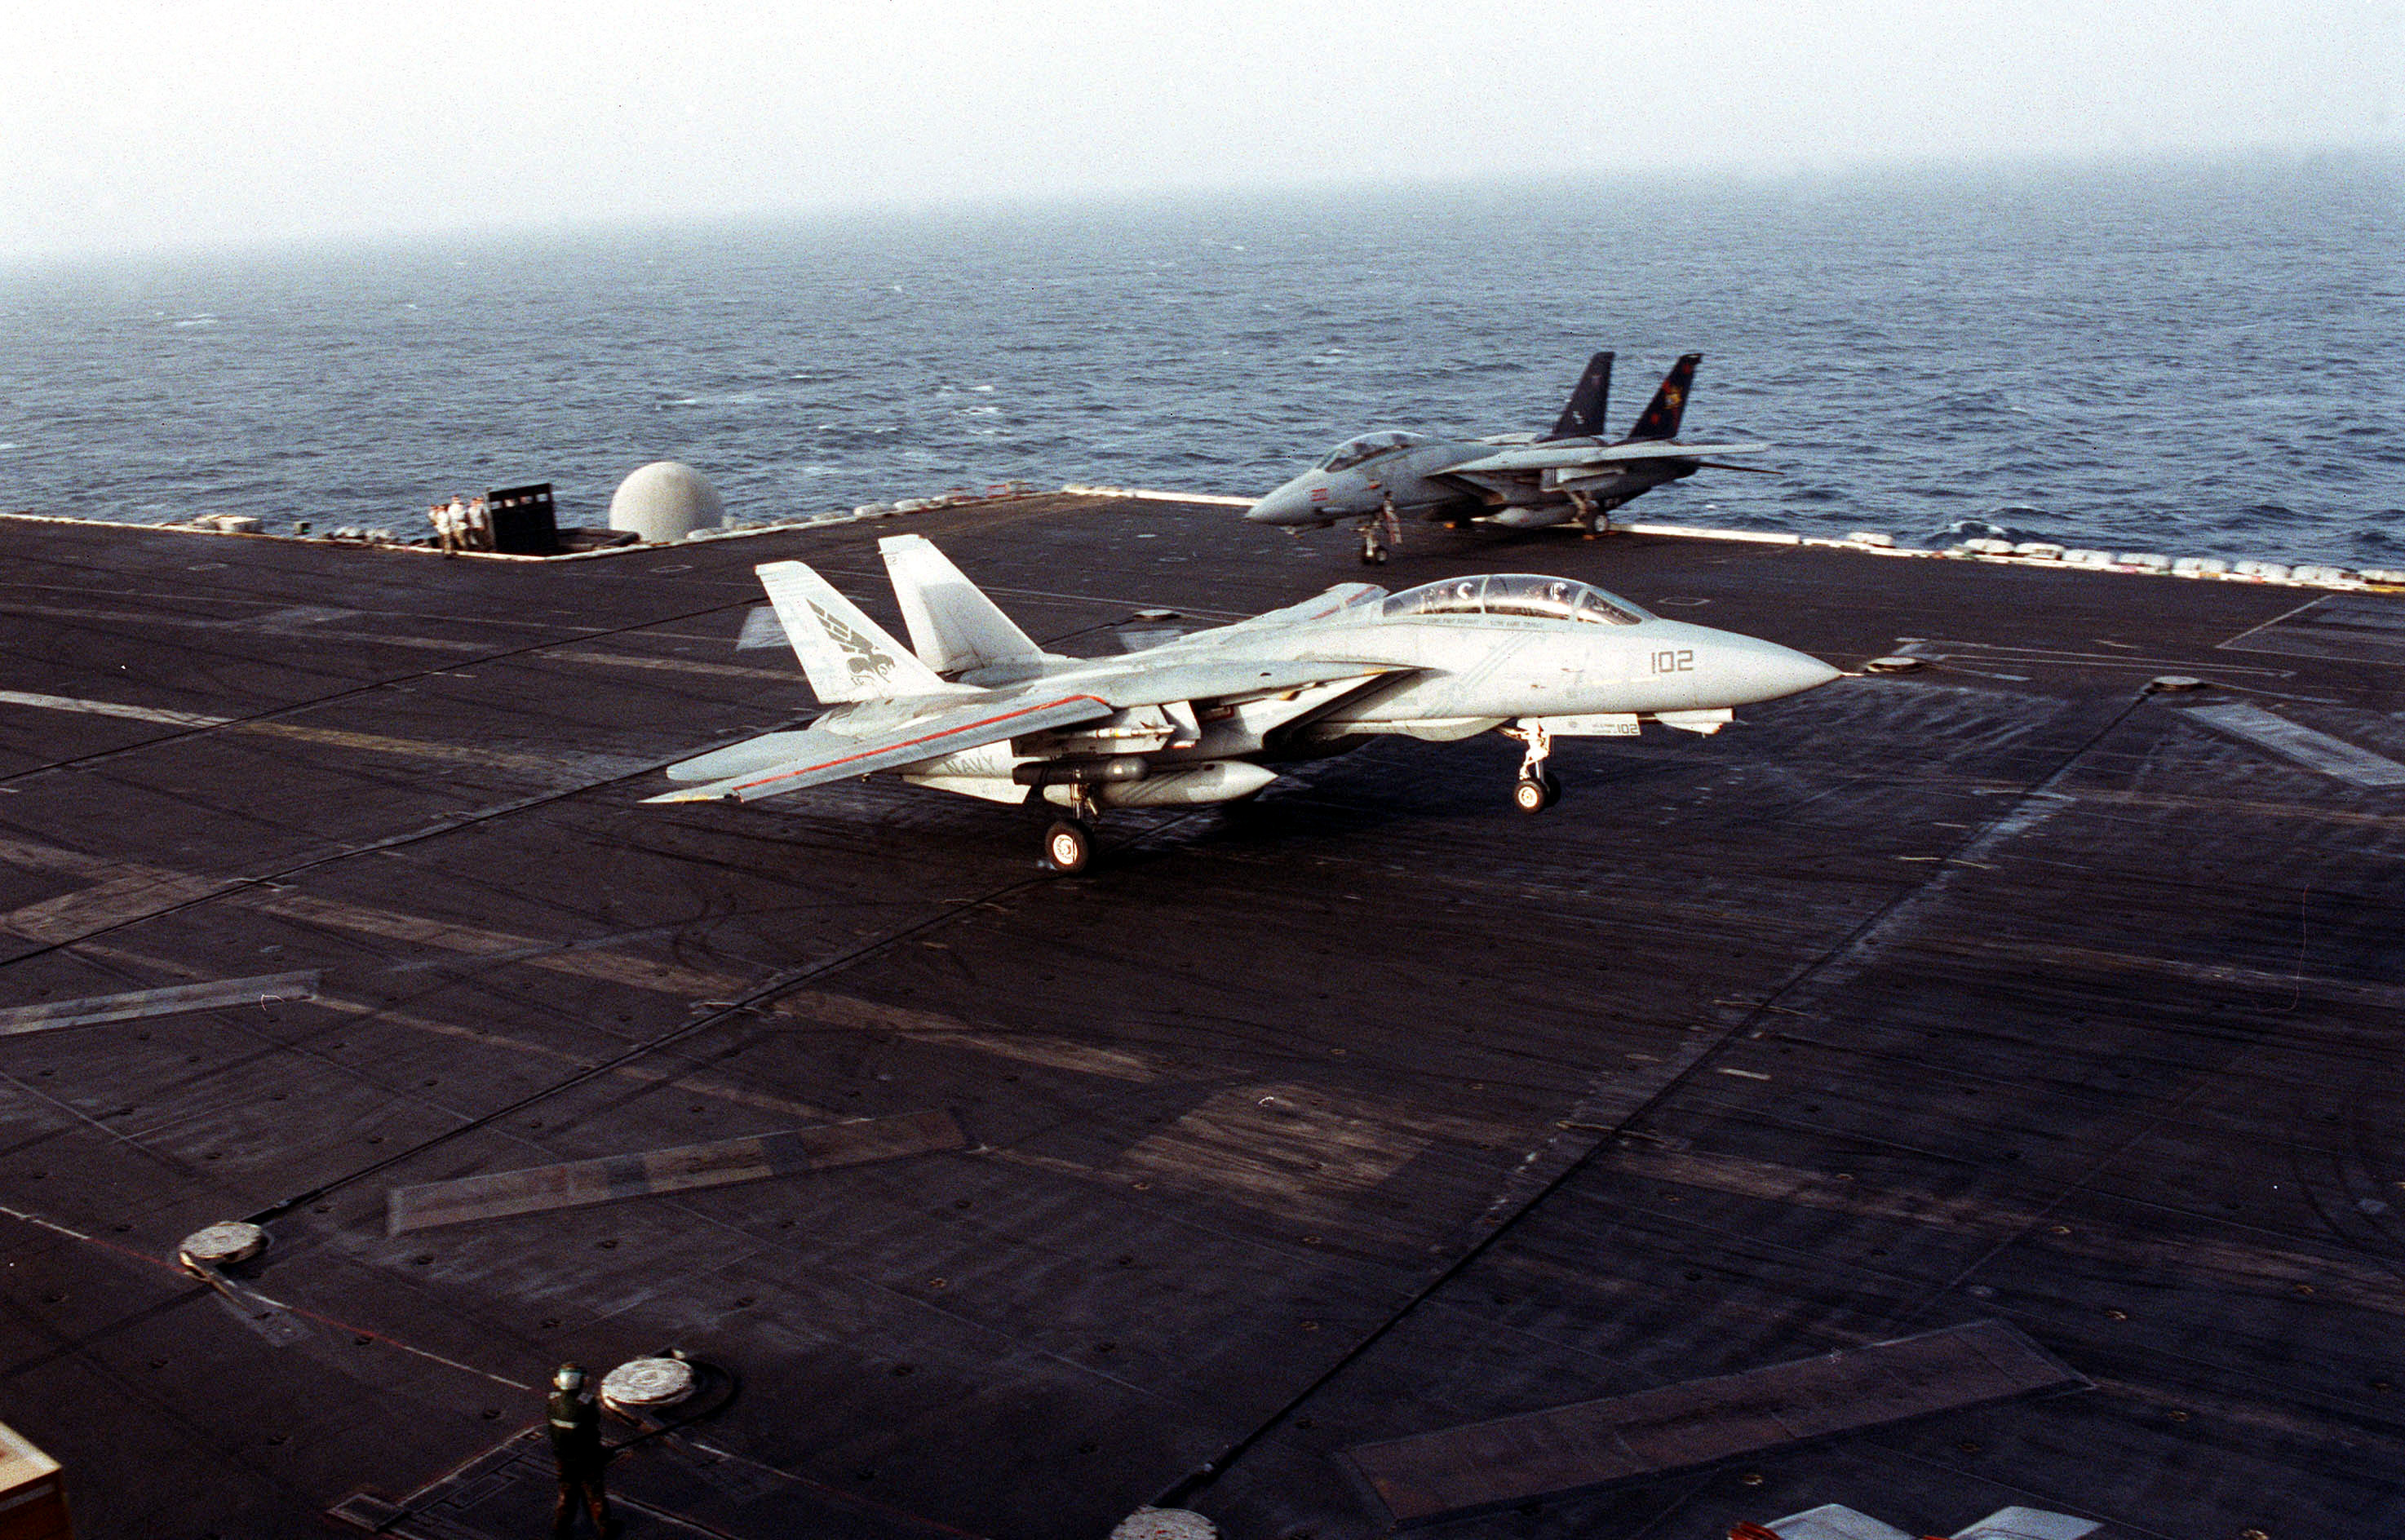F14: (635, 533, 1865, 876), (1239, 350, 1770, 566)
